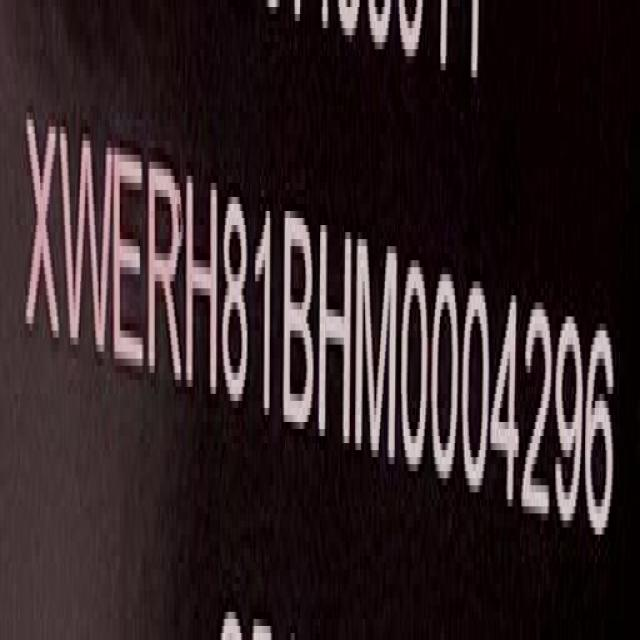0: (401, 251, 432, 481), (463, 277, 492, 501), (432, 266, 460, 491)
1: (259, 199, 276, 429)
2: (524, 304, 553, 528)
4: (492, 292, 522, 514)
6: (583, 320, 615, 548)
8: (223, 189, 250, 420)
9: (554, 312, 582, 538)
B: (281, 193, 316, 437)
E: (114, 138, 148, 388)
H: (317, 216, 352, 451), (186, 163, 218, 405)
M: (357, 231, 399, 470)
R: (148, 156, 184, 400)
W: (60, 116, 114, 370)
X: (24, 104, 60, 356)
